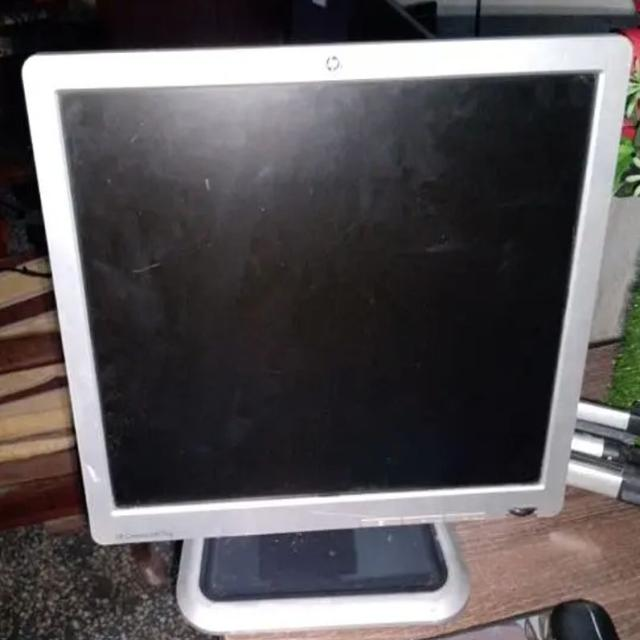electronic: (22, 33, 630, 545)
